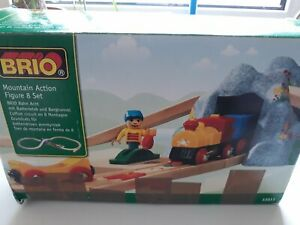brio: (172, 112, 229, 166)
